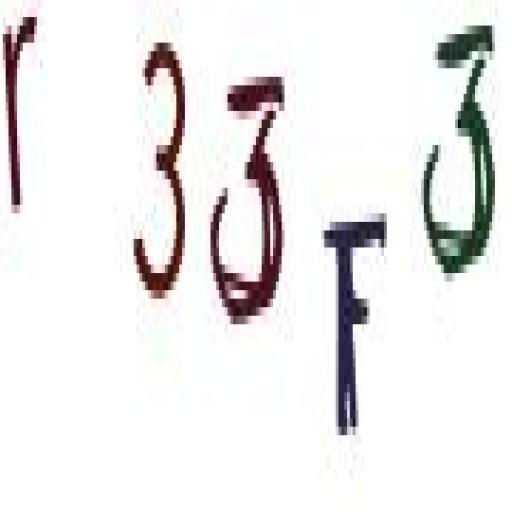3: (420, 8, 506, 289), (204, 56, 288, 339), (126, 27, 192, 324)
F: (322, 196, 390, 460)
r: (0, 2, 41, 226)
